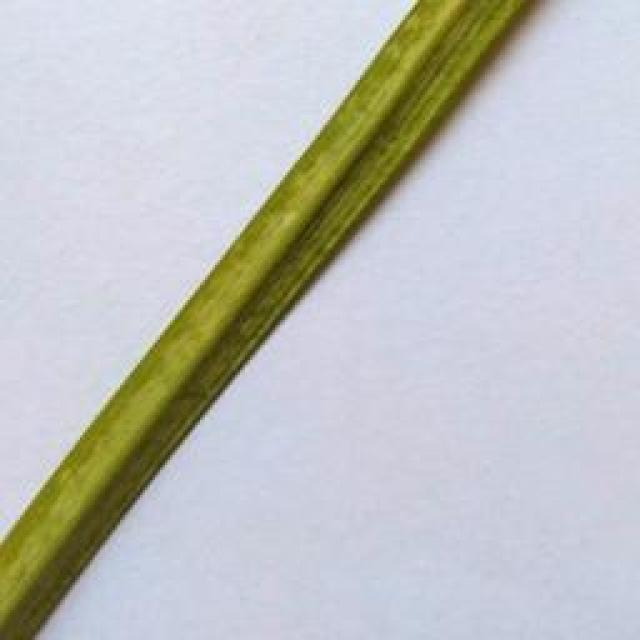Healthy-Plant: (0, 2, 532, 639)
